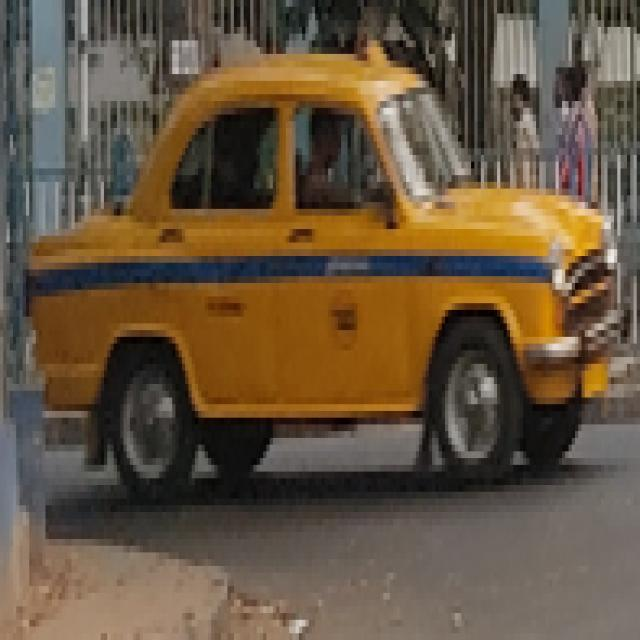ambasador_taxi: (29, 52, 623, 510)
